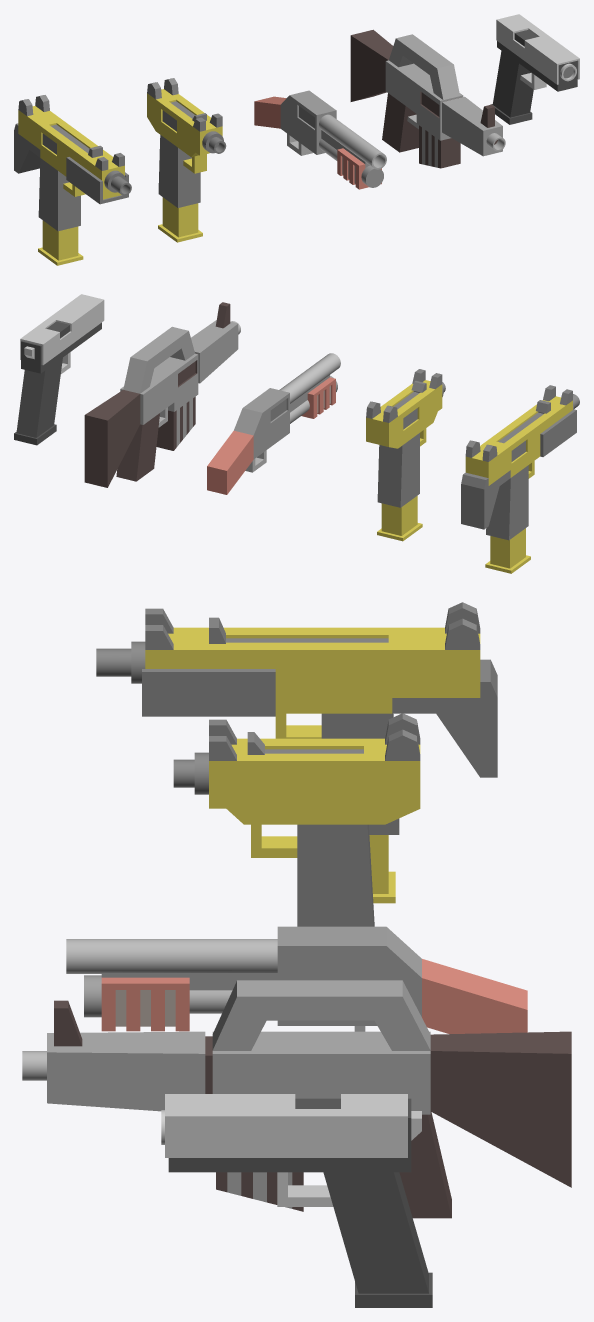
The model's file is _libAssets.fbx.
The picture shows the model from 3 angles, top to bottom: view 1: azimuth 30°, elevation 25°; view 2: azimuth 150°, elevation 25°; view 3: azimuth 270°, elevation 25°; orthographic projection. The views are drawn at different scales.
Visible parts, largest first — view 1: metralha, macakinha2, macakinha, shotgun, pistola; view 2: metralha, macakinha2, macakinha, shotgun, pistola; view 3: metralha, macakinha2, pistola, shotgun, macakinha.
Boxes of the visible parts, bbox=[...] form: metralha: bbox=[350, 29, 505, 168]; macakinha2: bbox=[14, 95, 131, 265]; macakinha: bbox=[147, 78, 226, 242]; shotgun: bbox=[254, 90, 386, 189]; pistola: bbox=[490, 14, 579, 124]; metralha: bbox=[84, 302, 240, 487]; macakinha2: bbox=[461, 385, 579, 573]; macakinha: bbox=[366, 369, 445, 541]; shotgun: bbox=[207, 353, 340, 494]; pistola: bbox=[14, 294, 104, 445]; metralha: bbox=[22, 980, 571, 1218]; macakinha2: bbox=[96, 602, 497, 903]; pistola: bbox=[161, 1094, 432, 1307]; shotgun: bbox=[66, 926, 527, 1033]; macakinha: bbox=[173, 713, 420, 926].
Bounding box in the file's own units: 478 × 130 × 234.
